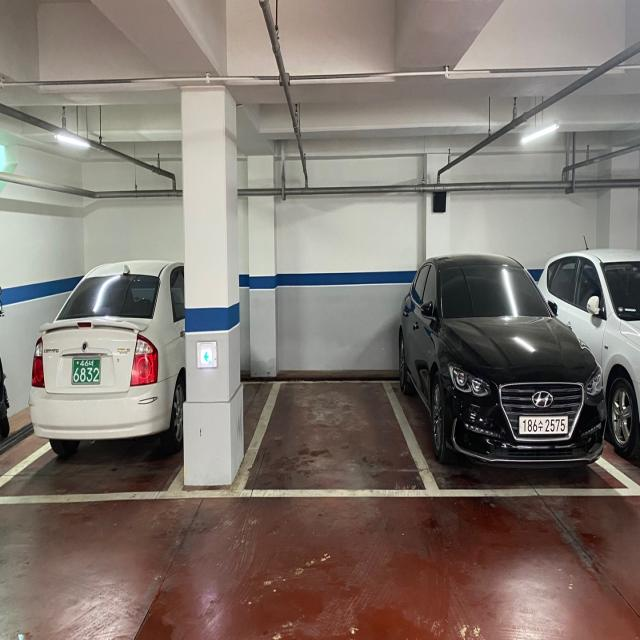empty: (229, 379, 441, 497)
occupied: (399, 252, 607, 472), (31, 263, 180, 445)
